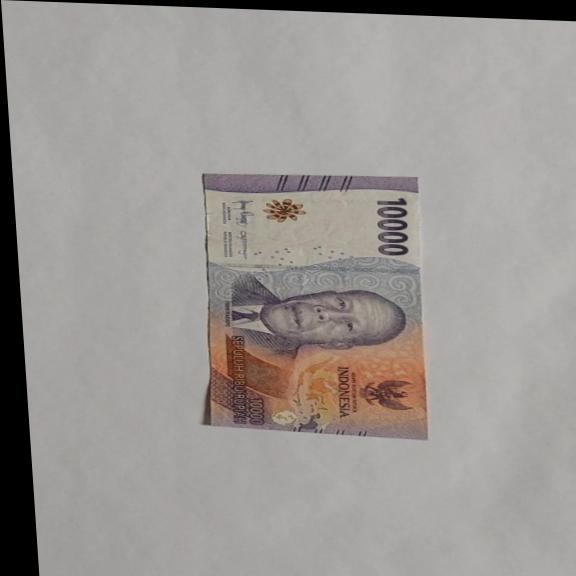Kertas: (188, 169, 437, 441), (372, 196, 414, 257)
